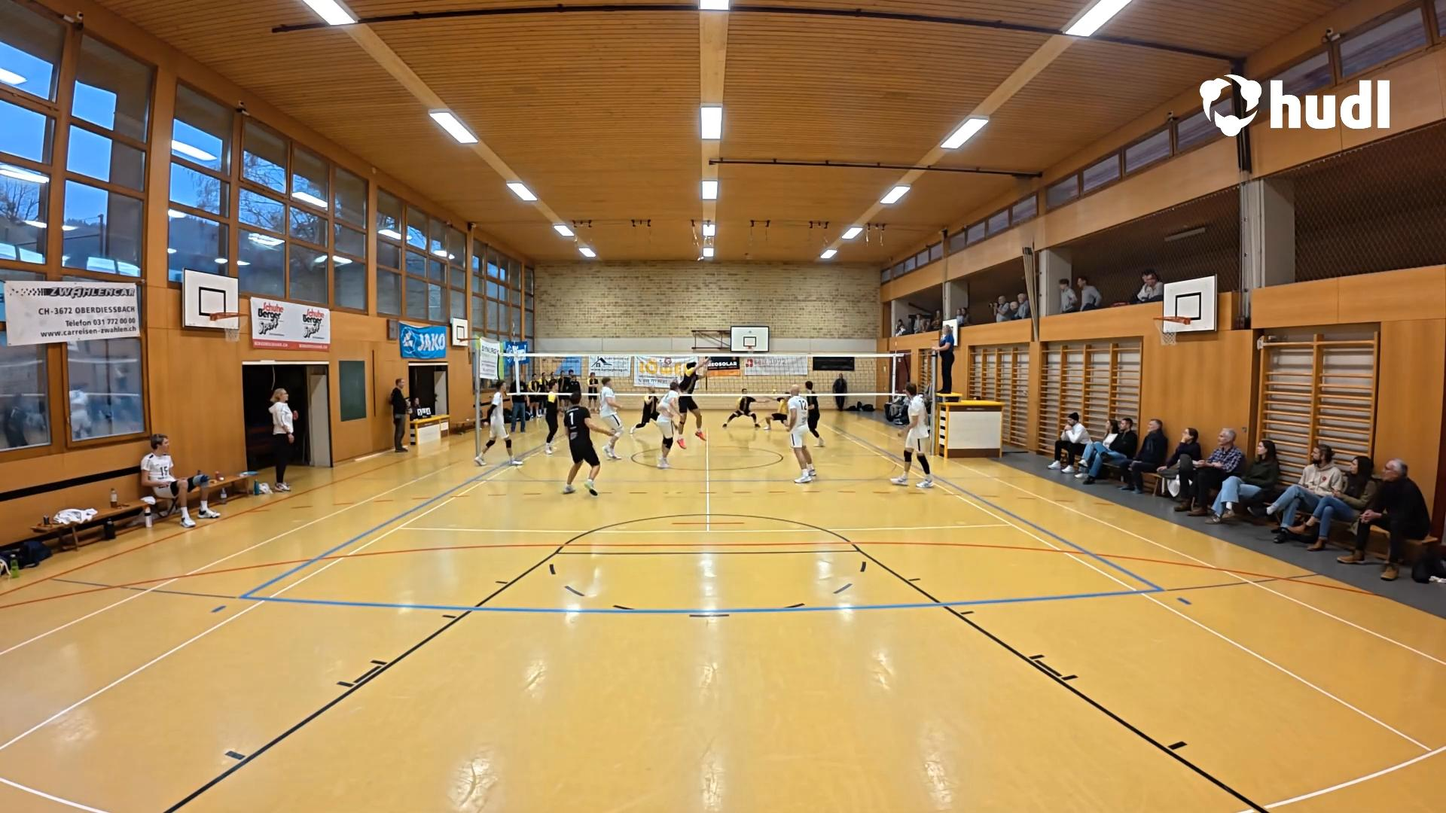difesa: (762, 381, 794, 431)
